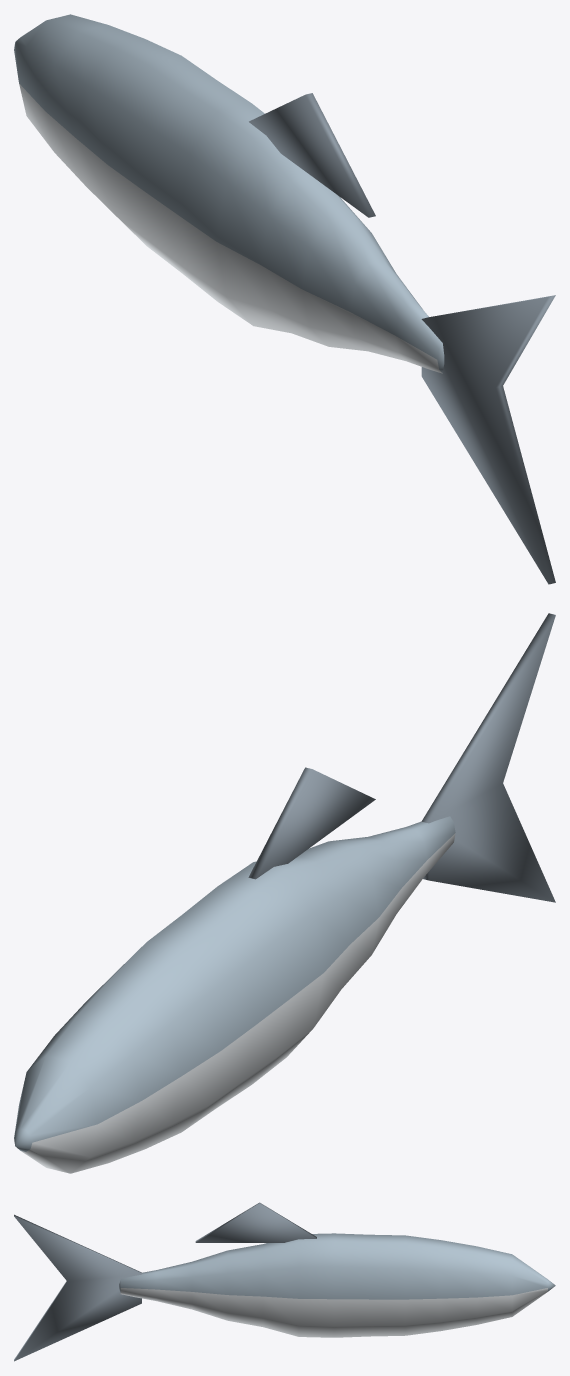
Rendered from salmon_LOD0.glb.
3 renders of one model, top to bottom at view 1: azimuth 30°, elevation 25°; view 2: azimuth 150°, elevation 25°; view 3: azimuth 270°, elevation 25°, orthographic. The views are drawn at different scales.
Parts seen in each view (by area): view 1: LK_Salmon; view 2: LK_Salmon; view 3: LK_Salmon.
Boxes of the visible parts, x1,y1,x2,y2 form: LK_Salmon: (14,14,555,584); LK_Salmon: (14,613,555,1173); LK_Salmon: (14,1202,555,1361).
Size of the model in its own units: 0.1237 by 0.325 by 1.02.
